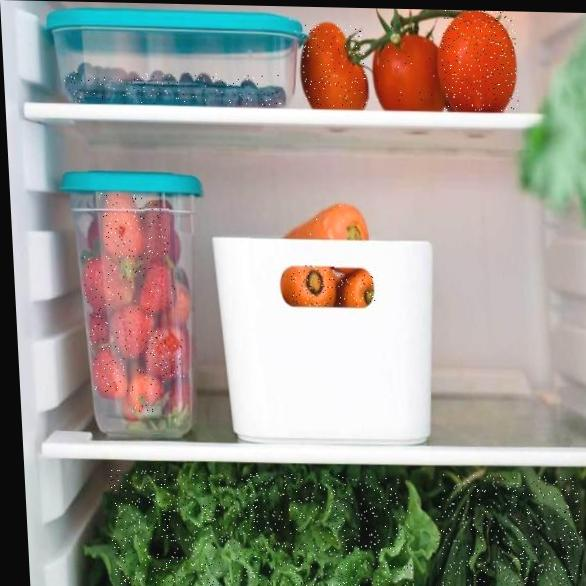blueberries: (63, 70, 283, 107)
carrot: (289, 204, 367, 238), (291, 266, 336, 307), (337, 273, 375, 307)
lettuce: (107, 470, 414, 586), (434, 474, 584, 586)
strawberries: (101, 191, 148, 275), (82, 257, 138, 310), (113, 307, 156, 358), (124, 369, 165, 415), (92, 345, 128, 397), (145, 331, 185, 377), (144, 200, 172, 265), (140, 268, 177, 314), (88, 308, 110, 345)
tomato: (438, 10, 518, 111), (372, 25, 442, 107), (301, 25, 368, 108)
